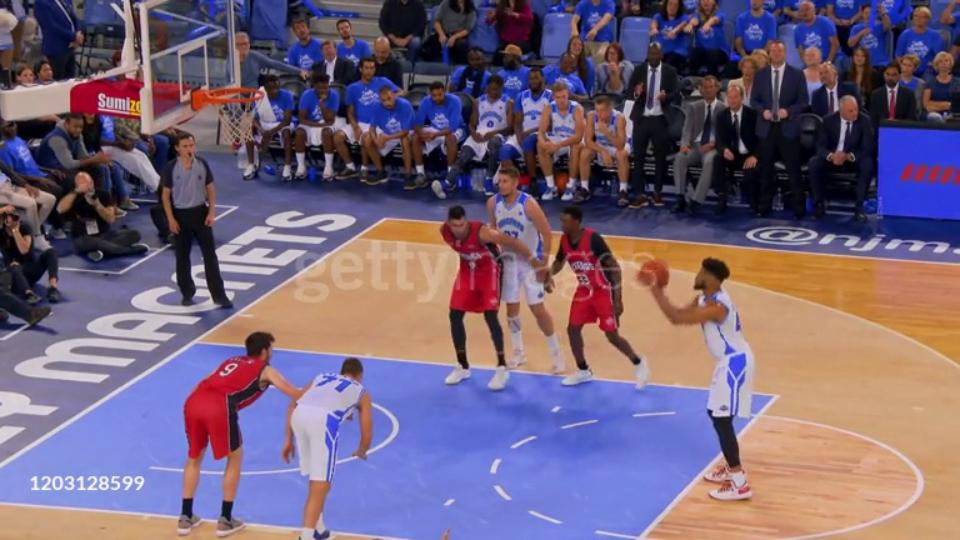hoop: (185, 77, 264, 109)
